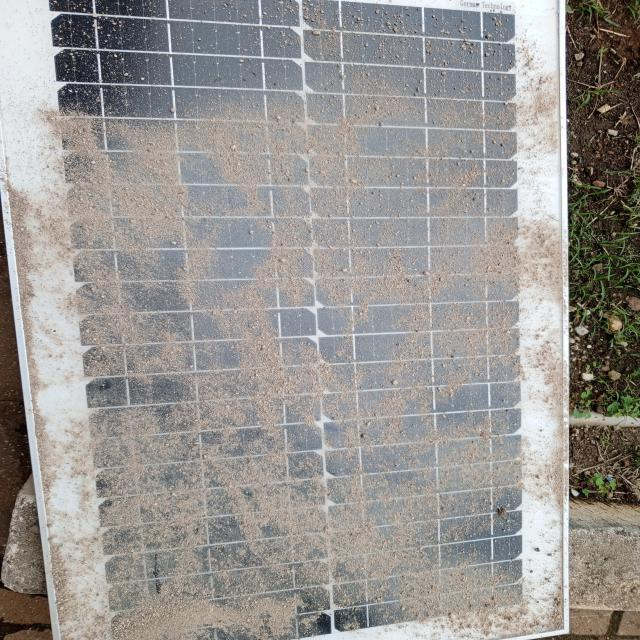Anomaly Solar Panel: (40, 4, 551, 627)
Surface Contaminant: (73, 37, 551, 627)
